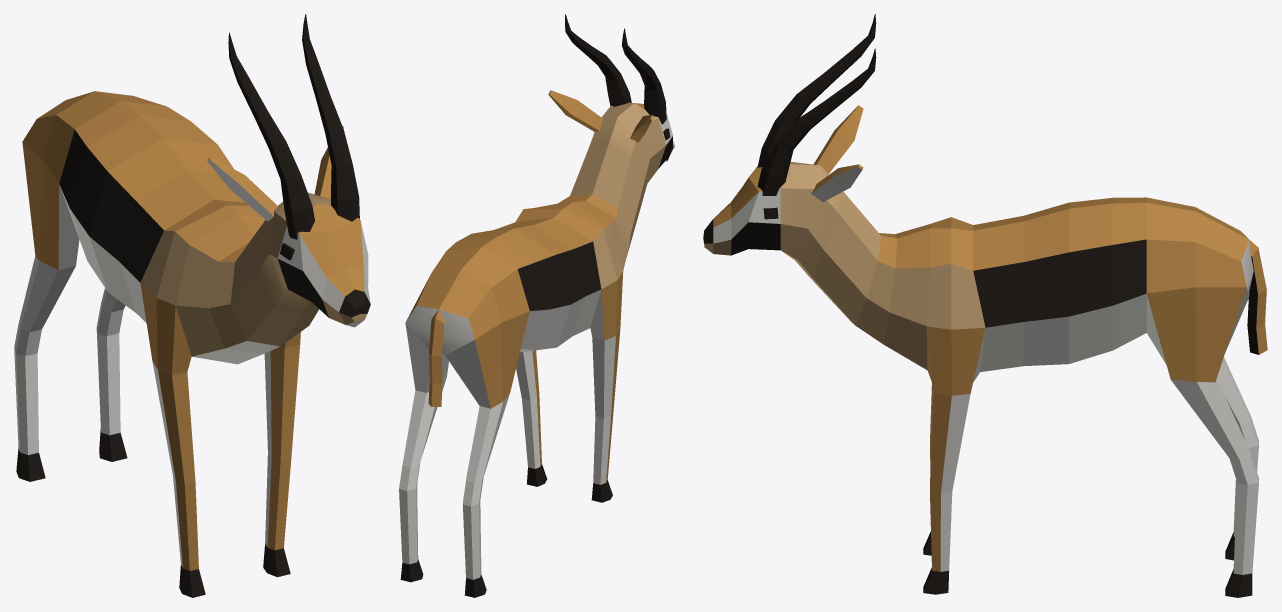
The picture shows the model from 3 angles, left to right: view 1: azimuth 30°, elevation 25°; view 2: azimuth 150°, elevation 25°; view 3: azimuth 270°, elevation 25°; orthographic projection. The views are drawn at different scales.
Parts seen in each view (by area): view 1: Geo_Gazelle; view 2: Geo_Gazelle; view 3: Geo_Gazelle.
Boxes of the visible parts, x1,y1,x2,y2 form: Geo_Gazelle: [14, 14, 370, 597]; Geo_Gazelle: [399, 14, 674, 597]; Geo_Gazelle: [703, 14, 1267, 597].
Bounding box in the file's own units: 36.52 × 139 × 131.
1 material, 1 textured.
